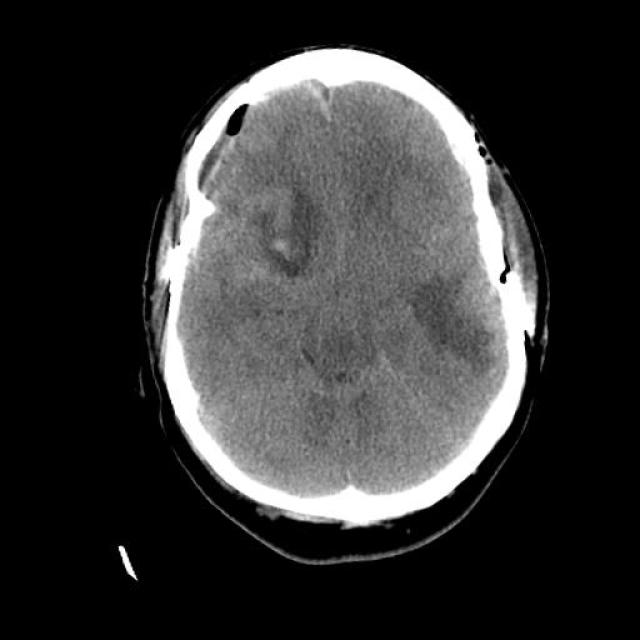Subdural: (162, 63, 366, 209)
